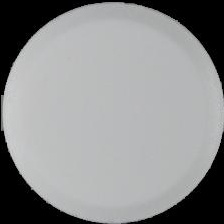49884-290: (0, 0, 224, 224)
